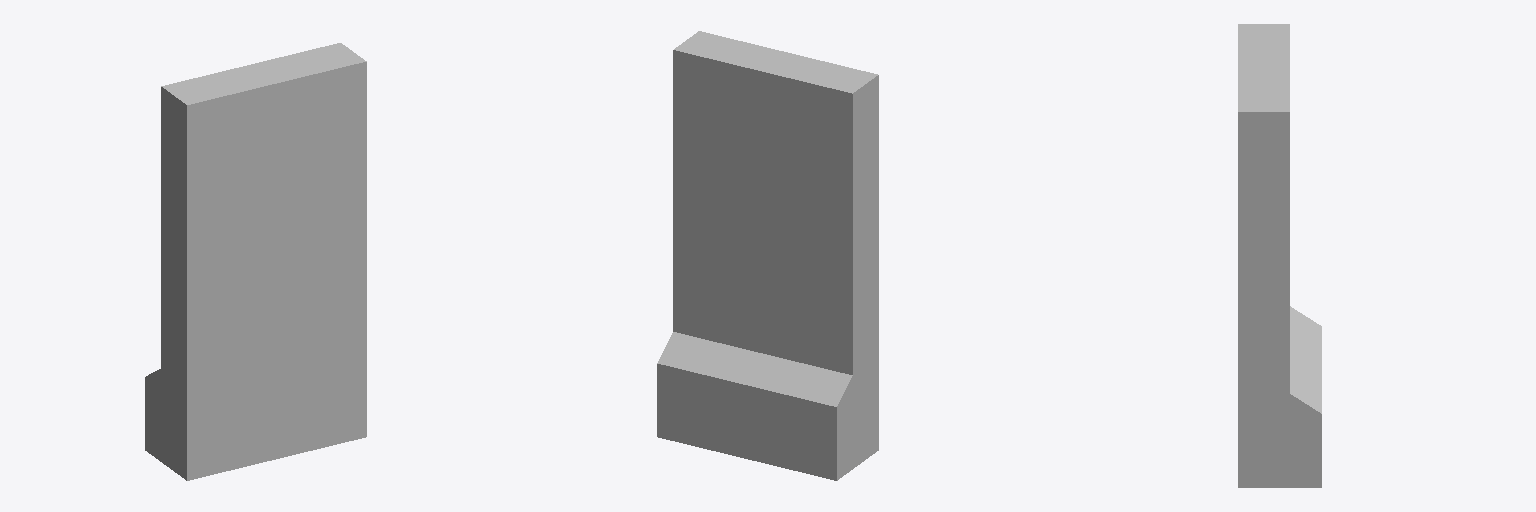
Rendered from vneshnjaja_stena_001.obj.
3 renders of one model, left to right at view 1: azimuth 30°, elevation 25°; view 2: azimuth 150°, elevation 25°; view 3: azimuth 270°, elevation 25°, orthographic.
Visible parts, largest first — view 1: Внешняя_стена.001; view 2: Внешняя_стена.001; view 3: Внешняя_стена.001.
Part boxes in pixels (x1,y1,x2,y2): Внешняя_стена.001: (145,43,366,480); Внешняя_стена.001: (657,31,878,480); Внешняя_стена.001: (1238,24,1321,487).
Size of the model in its own units: 1 by 2 by 0.4035.